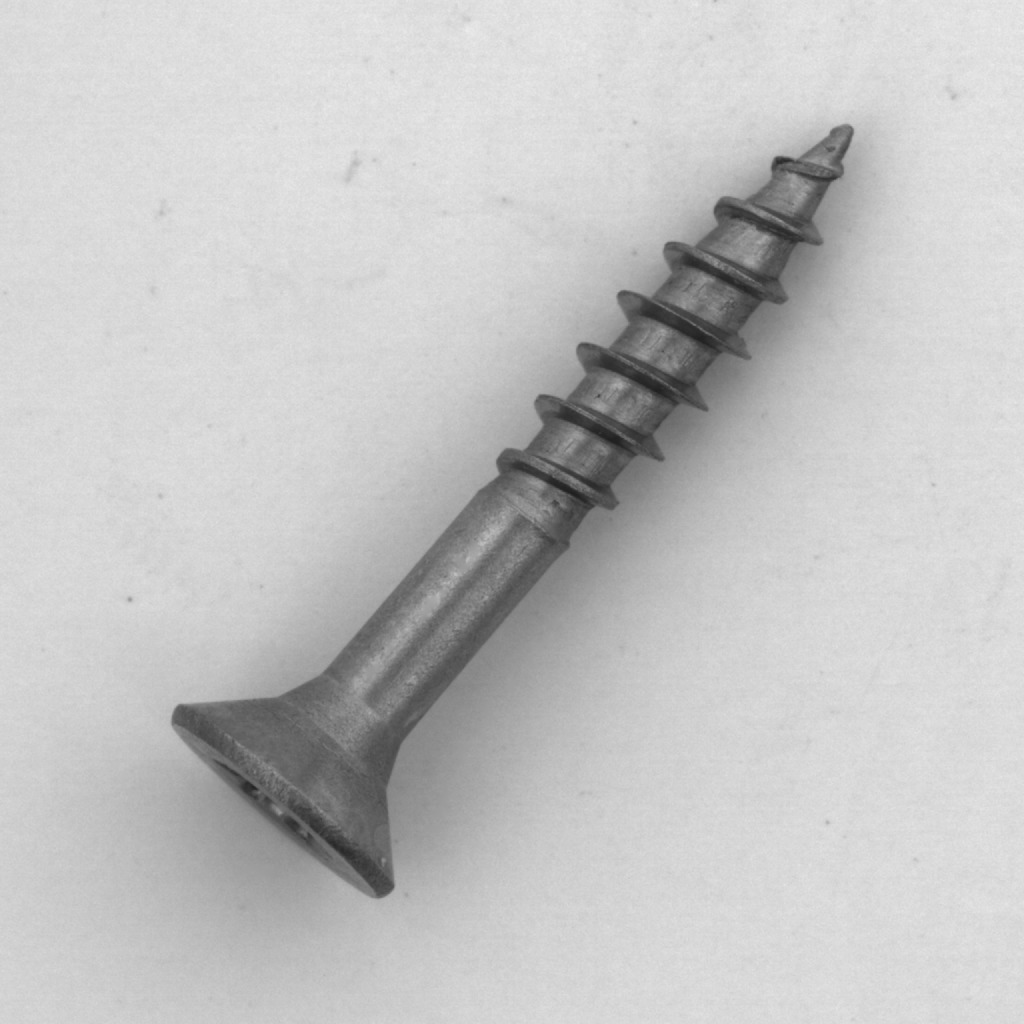good: (154, 103, 879, 922)
